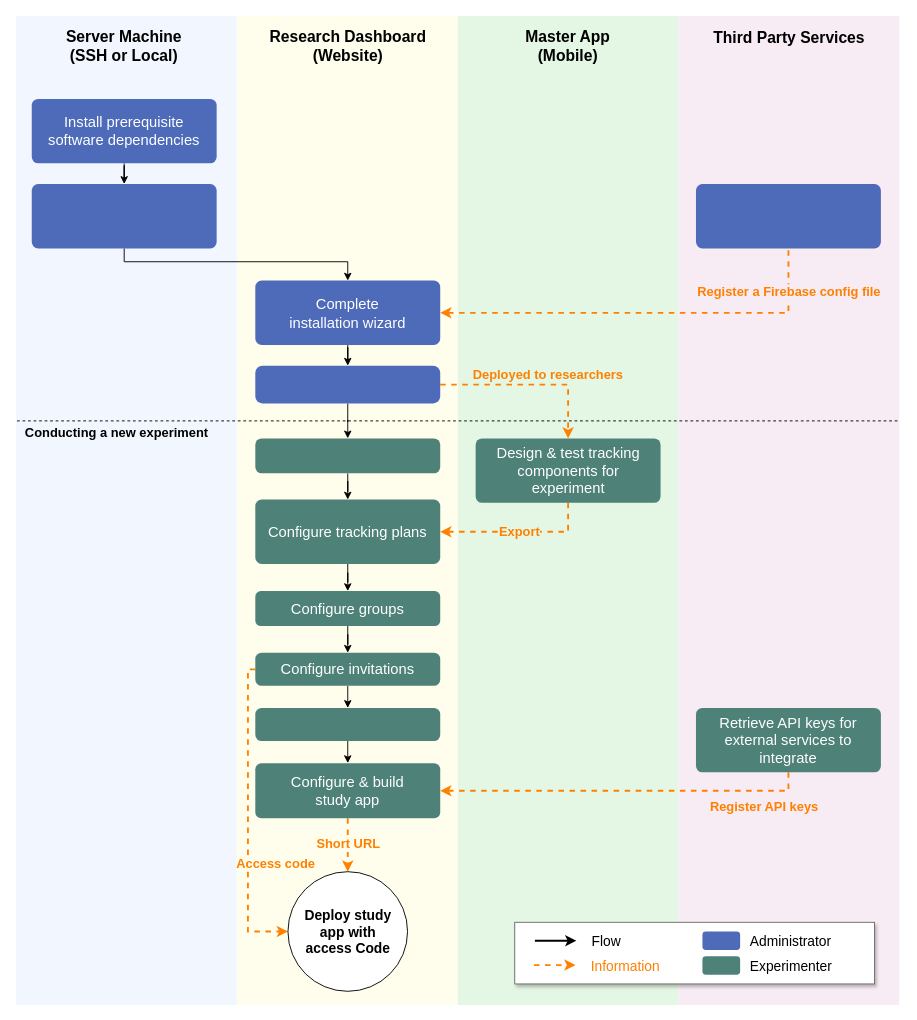
This 917x1020 diagram has some shape labels left out. Each missing label, with the centre of its shape:
Build master app: (347,384)
Configure in-app consent: (347,724)
Create new experiment: (347,455)
Run backend server & frontend web server: (123,216)
Setup a Firebase developer account: (788,216)
